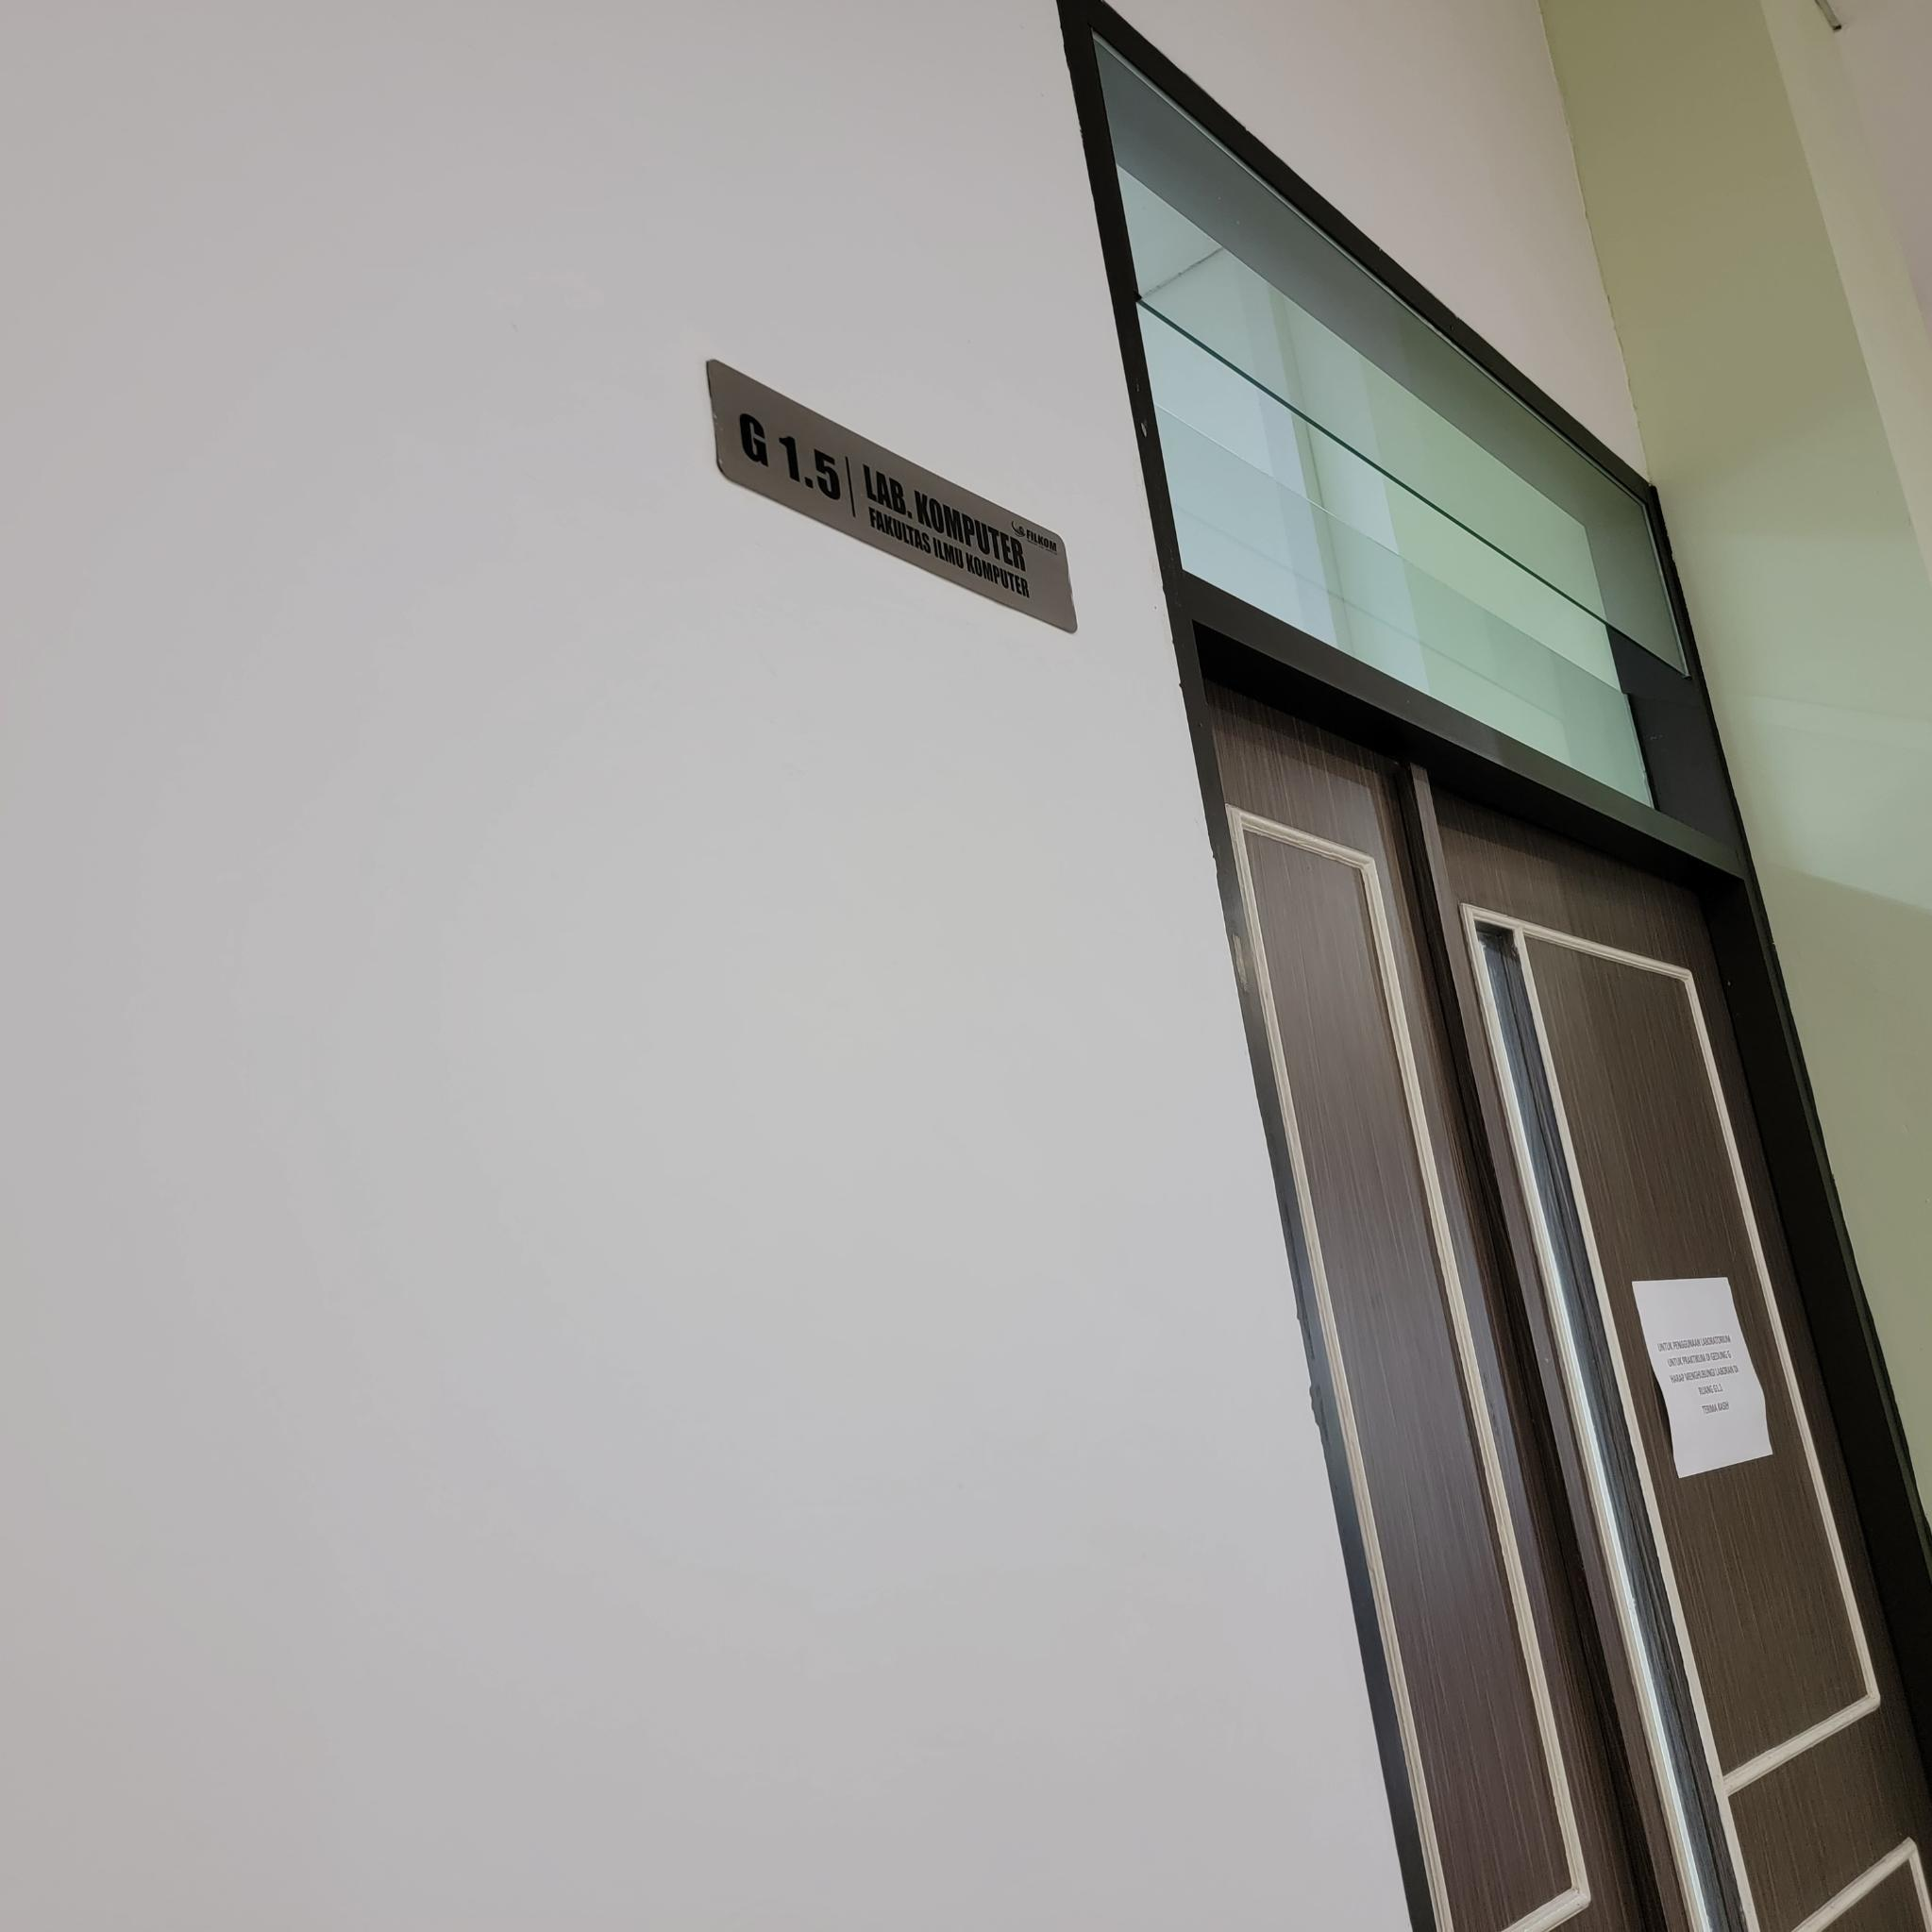plate: (708, 354, 1077, 637)
